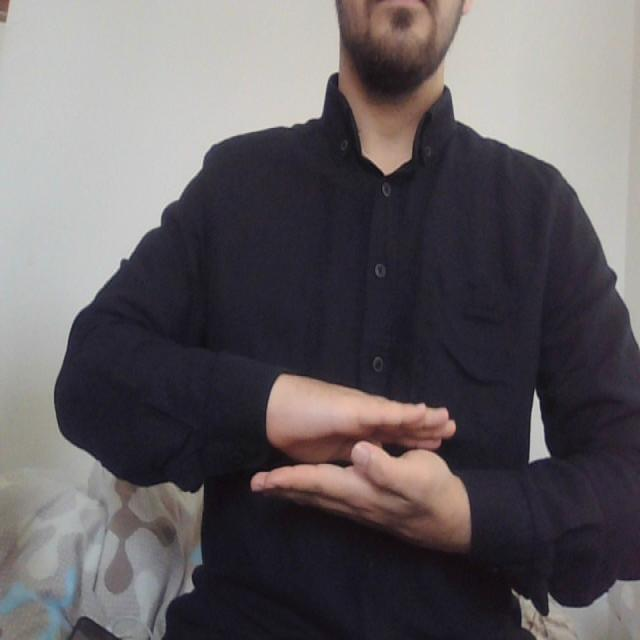Arkadas: (226, 352, 511, 561)
